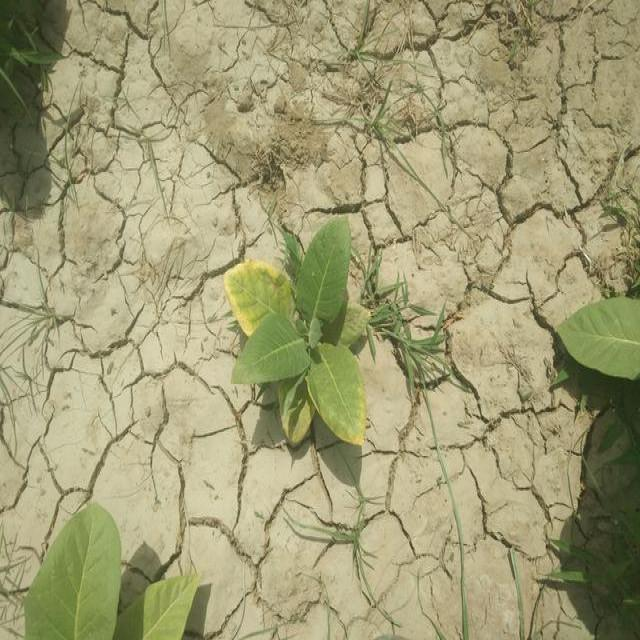crop: (224, 234, 371, 454), (18, 508, 190, 640), (561, 293, 640, 387)
